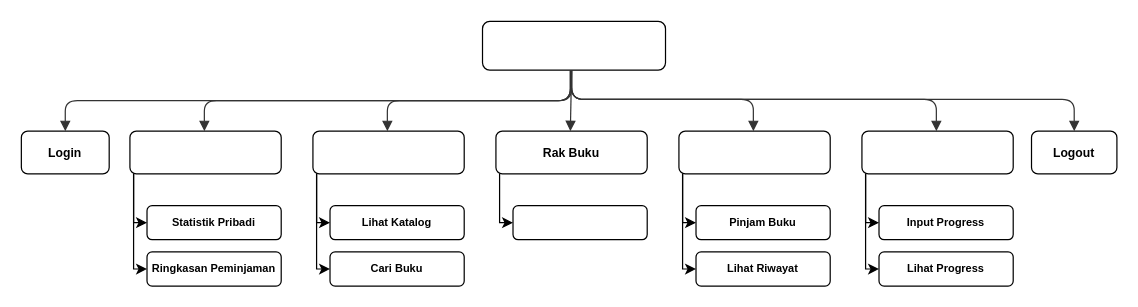
Some shapes in this 1138 by 307 pixel diagram are drawn without their labels. Here are the shapes that lost their labels. From the top down, the centre of each, then its label:
At point 573,45: "Member (Siswa)".
At point 205,152: "Dashboard".
At point 388,152: "Katalog Buku".
At point 754,152: "Peminjaman".
At point 937,152: "Progress Membaca".
At point 579,222: "Lihat Rak Buku".
